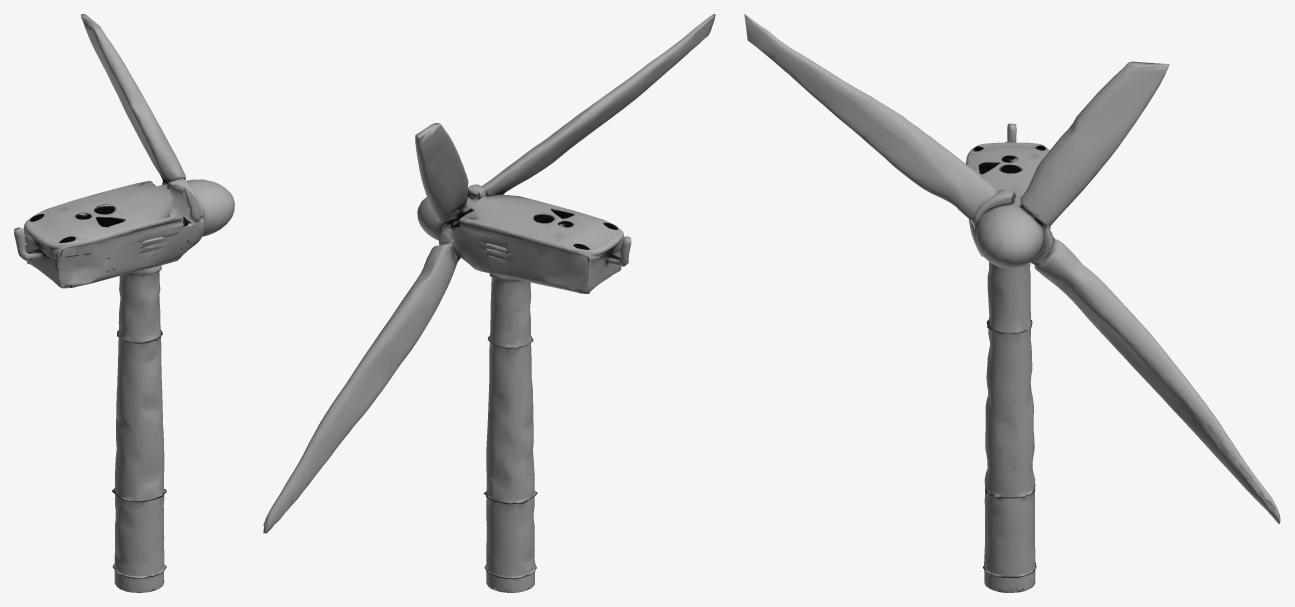
The model's file is photoreal-wind-turbine-eb6b1c70.glb.
3 renders of one model, left to right at view 1: azimuth 30°, elevation 25°; view 2: azimuth 150°, elevation 25°; view 3: azimuth 270°, elevation 25°, orthographic. The views are drawn at different scales.
Visible parts, largest first — view 1: tripo_node_4a4be209-e076-4bf9-b76e-d7b3d6135c16; view 2: tripo_node_4a4be209-e076-4bf9-b76e-d7b3d6135c16; view 3: tripo_node_4a4be209-e076-4bf9-b76e-d7b3d6135c16.
Boxes of the visible parts, x1=… form: tripo_node_4a4be209-e076-4bf9-b76e-d7b3d6135c16: x1=14, y1=14, x2=234, y2=592; tripo_node_4a4be209-e076-4bf9-b76e-d7b3d6135c16: x1=263, y1=14, x2=715, y2=592; tripo_node_4a4be209-e076-4bf9-b76e-d7b3d6135c16: x1=744, y1=14, x2=1280, y2=592.
Size of the model in its own units: 0.5098 by 0.9997 by 0.9214.
Materials: 1 (1 with a texture image).
